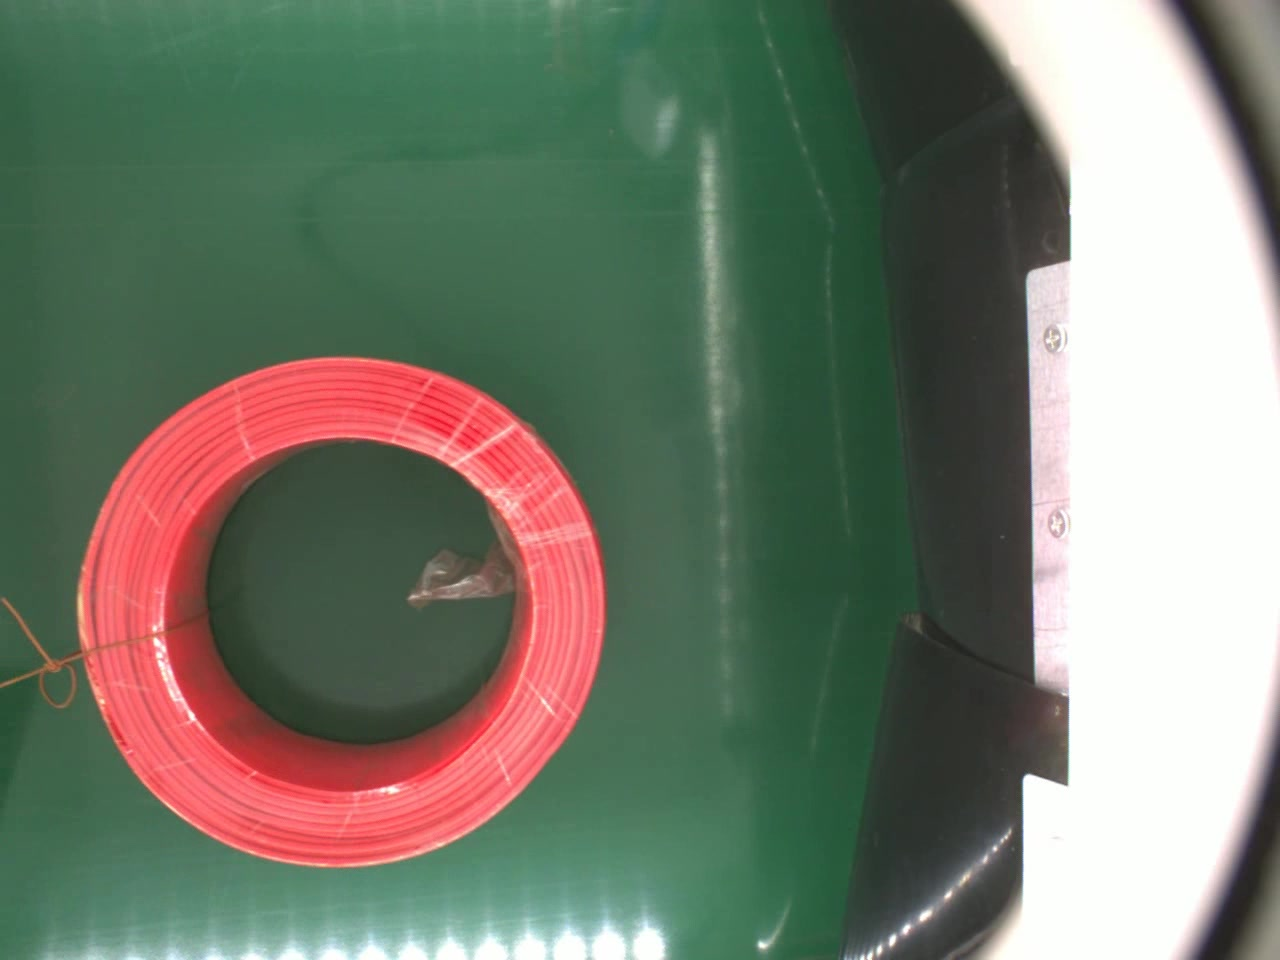red: (69, 351, 611, 869)
